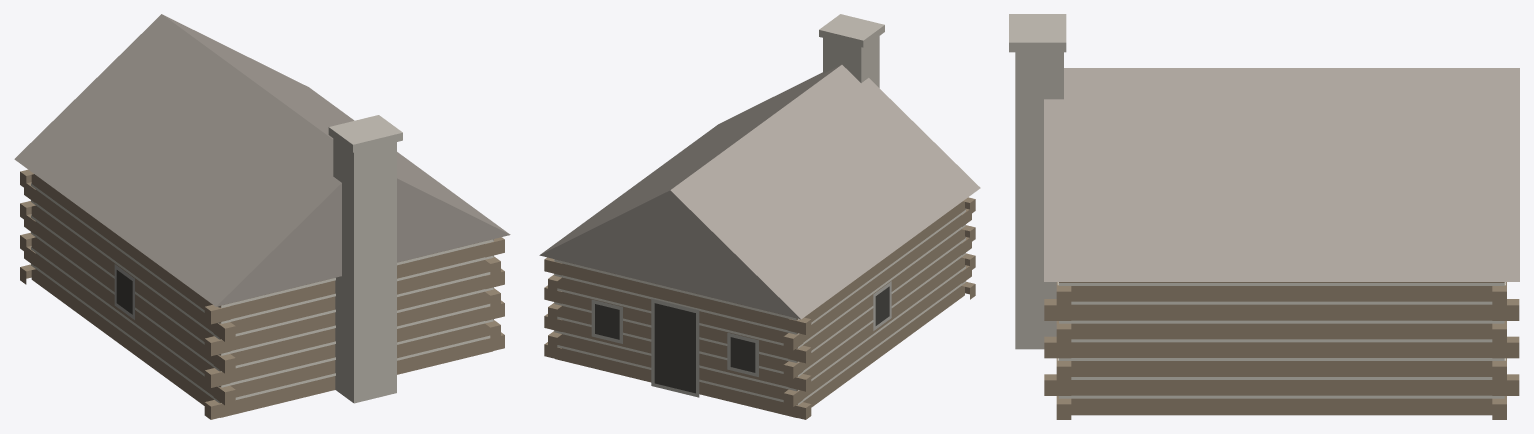
File: recon_1835_west_040__inferred_1835.glb
The picture shows the model from 3 angles, left to right: view 1: azimuth 30°, elevation 25°; view 2: azimuth 150°, elevation 25°; view 3: azimuth 270°, elevation 25°; orthographic projection. The views are drawn at different scales.
Parts seen in each view (by area): view 1: recon_1835_west_040__inferred_1835; view 2: recon_1835_west_040__inferred_1835; view 3: recon_1835_west_040__inferred_1835.
Part boxes in pixels (<box>): recon_1835_west_040__inferred_1835: <box>14,14,510,419</box>; recon_1835_west_040__inferred_1835: <box>539,14,980,419</box>; recon_1835_west_040__inferred_1835: <box>1009,14,1519,419</box>.
Size of the model in its own units: 6.6 by 5.65 by 8.39.
